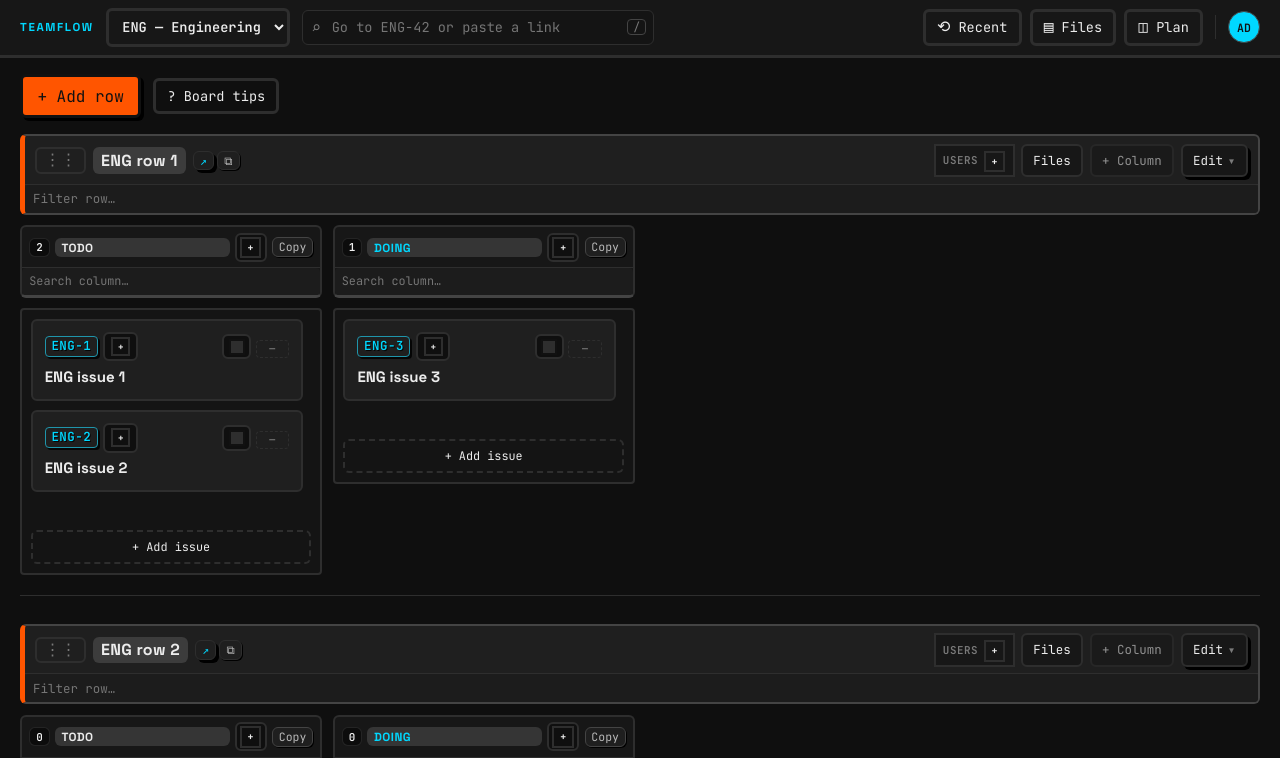
Scenario: board permissions › lets a viewer read but not drag, rename, delete, assign or bulk-edit
Expected: the button "ENG issue 1" is shown, [45,367,289,388]
Expected: the button "+ Add row" is disabled, [20,74,141,118]
Right-click the button "ENG row 2" at (140, 650), box [101,639,180,660]
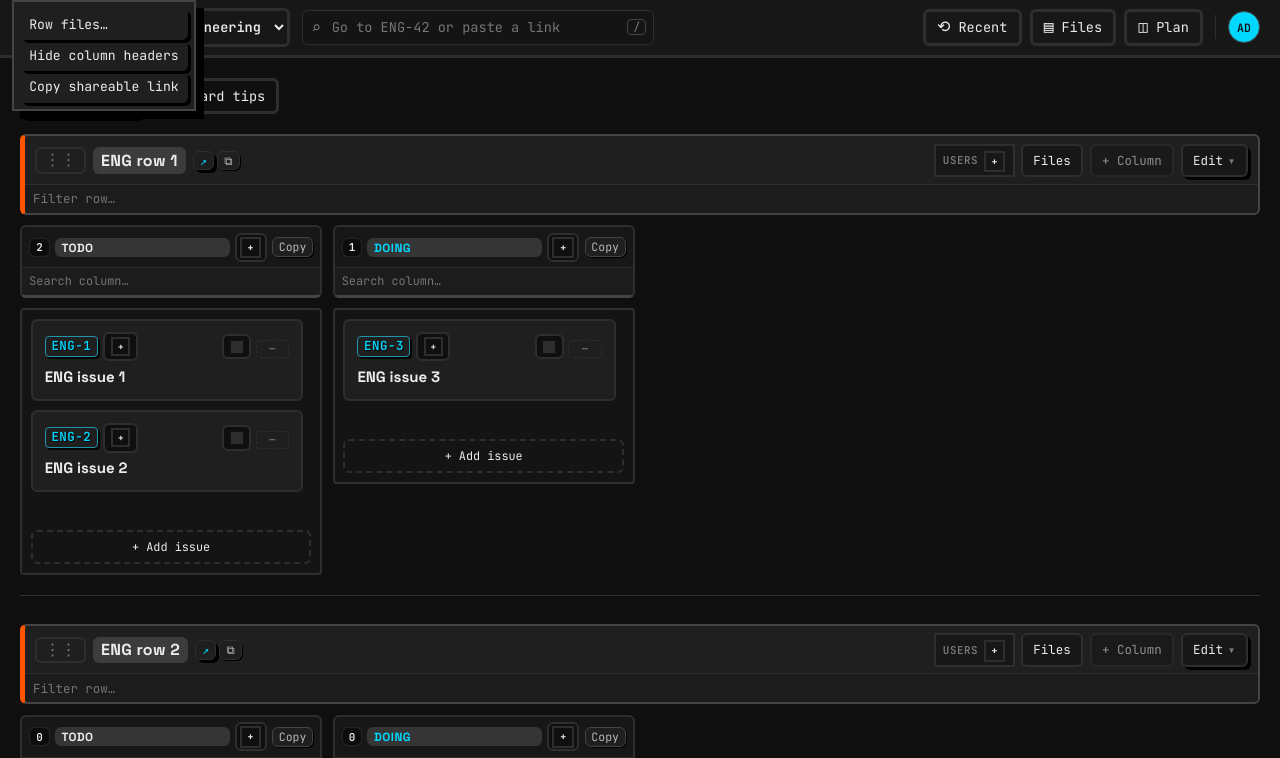
Expected: the menu item "Copy shareable link" is shown, [20,71,188,102]
Press Escape
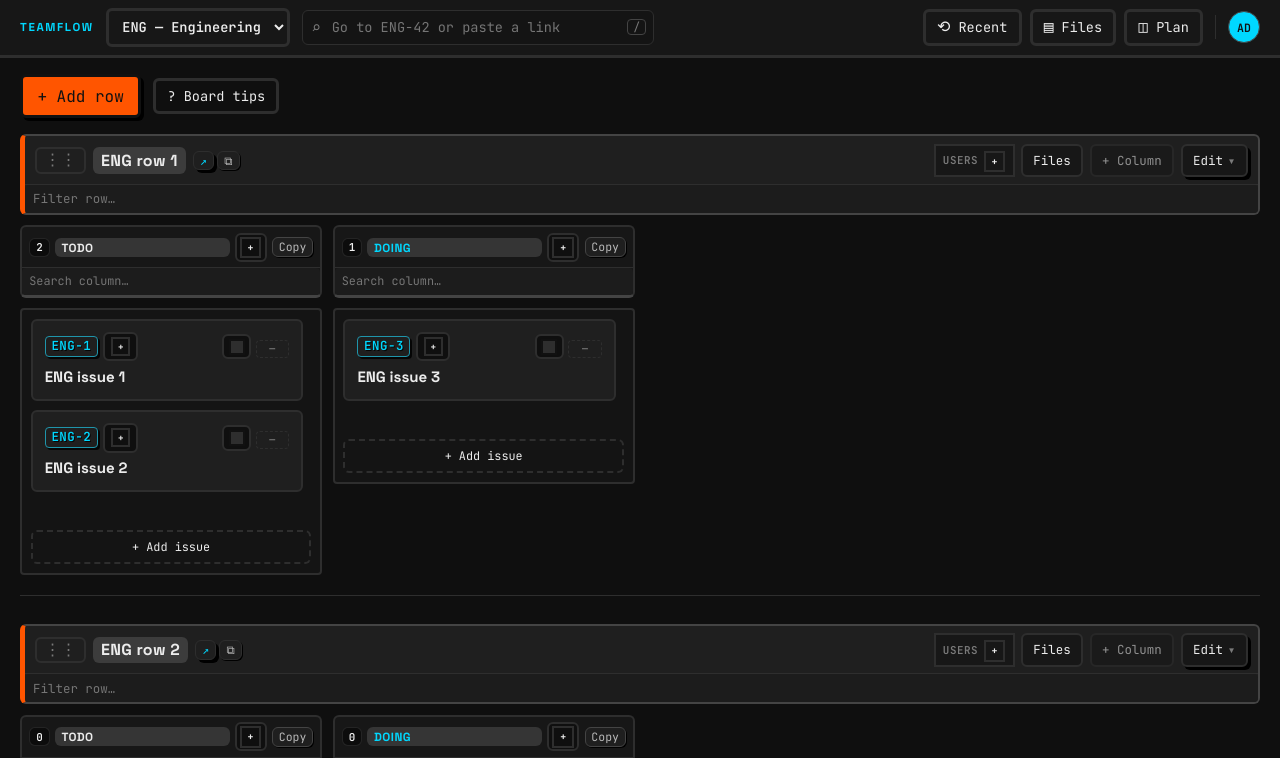
Type keys "{Control>}"
Click the button "ENG issue 1" at (167, 377), box [45,367,289,388]
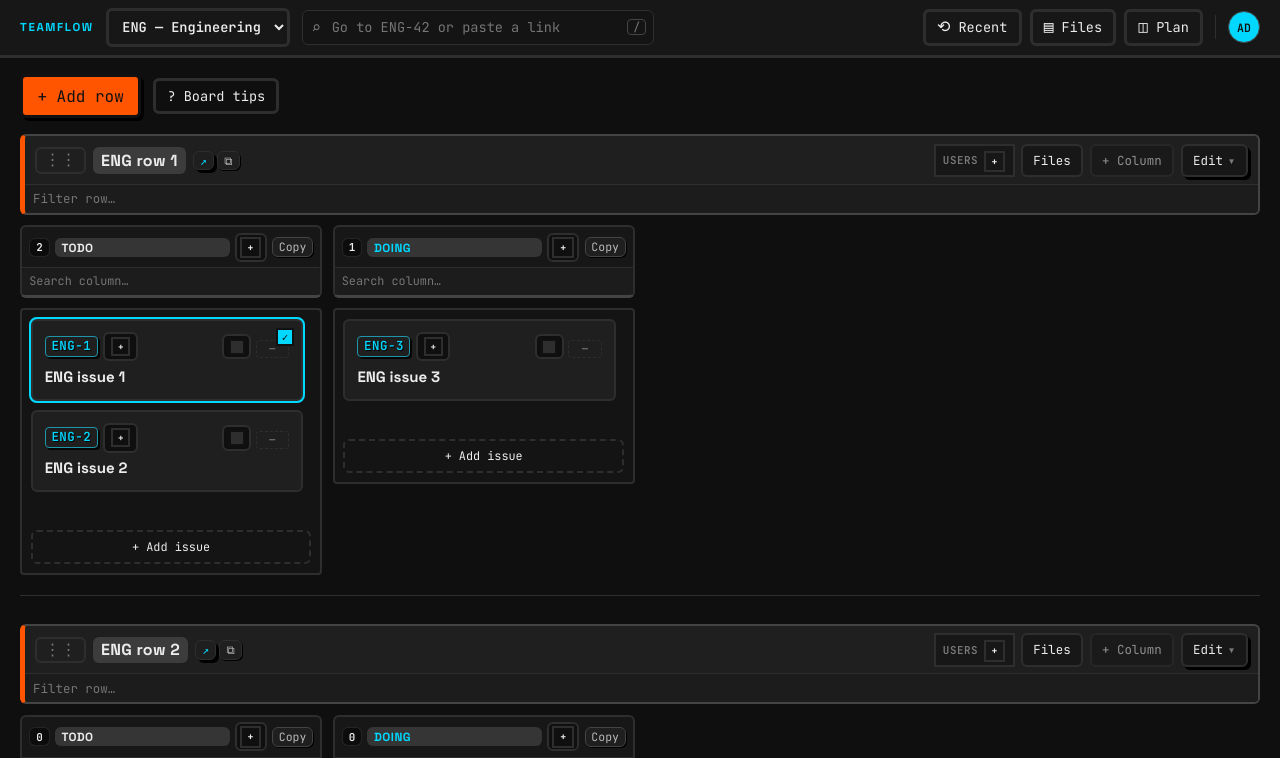
Click the button "ENG issue 2" at (167, 468), box [45,458,289,479]
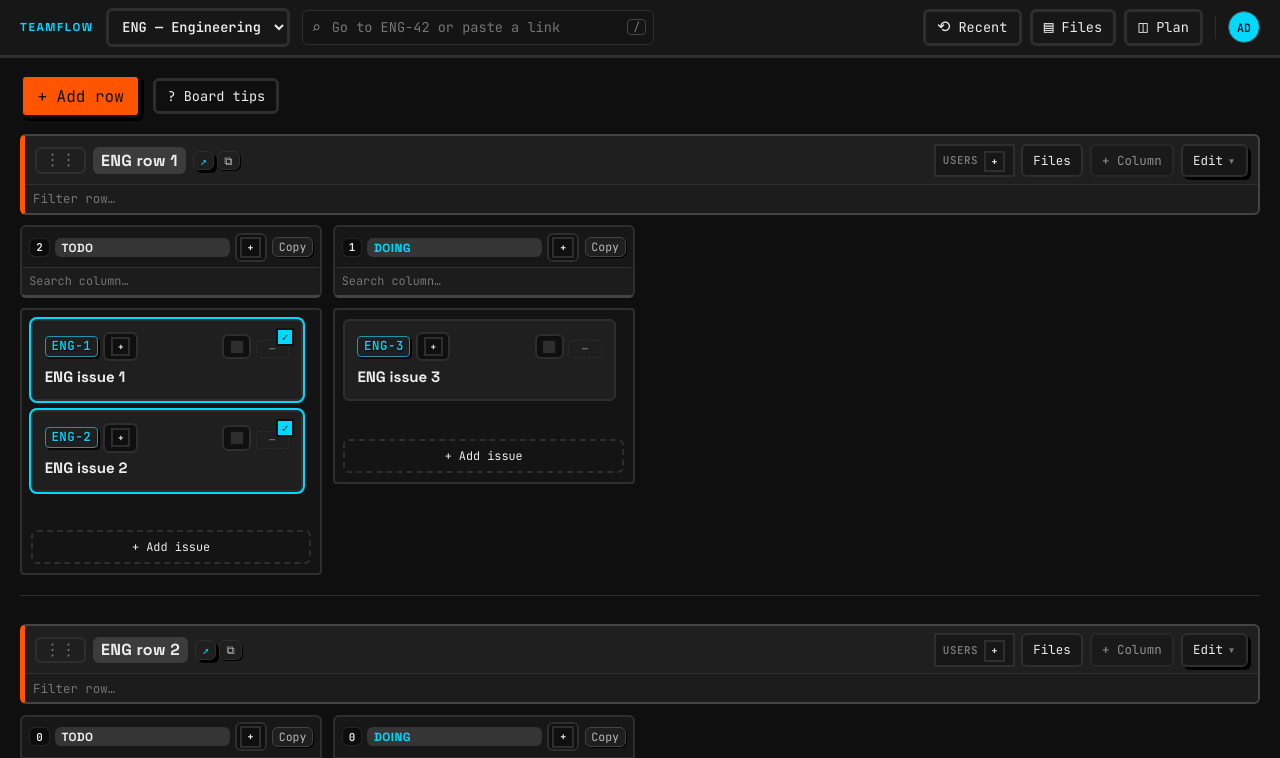
Type keys "{/Control}"
// Reading still works: a plain click opens the issue.
Click the button "ENG issue 3" at (480, 377), box [357,367,602,388]
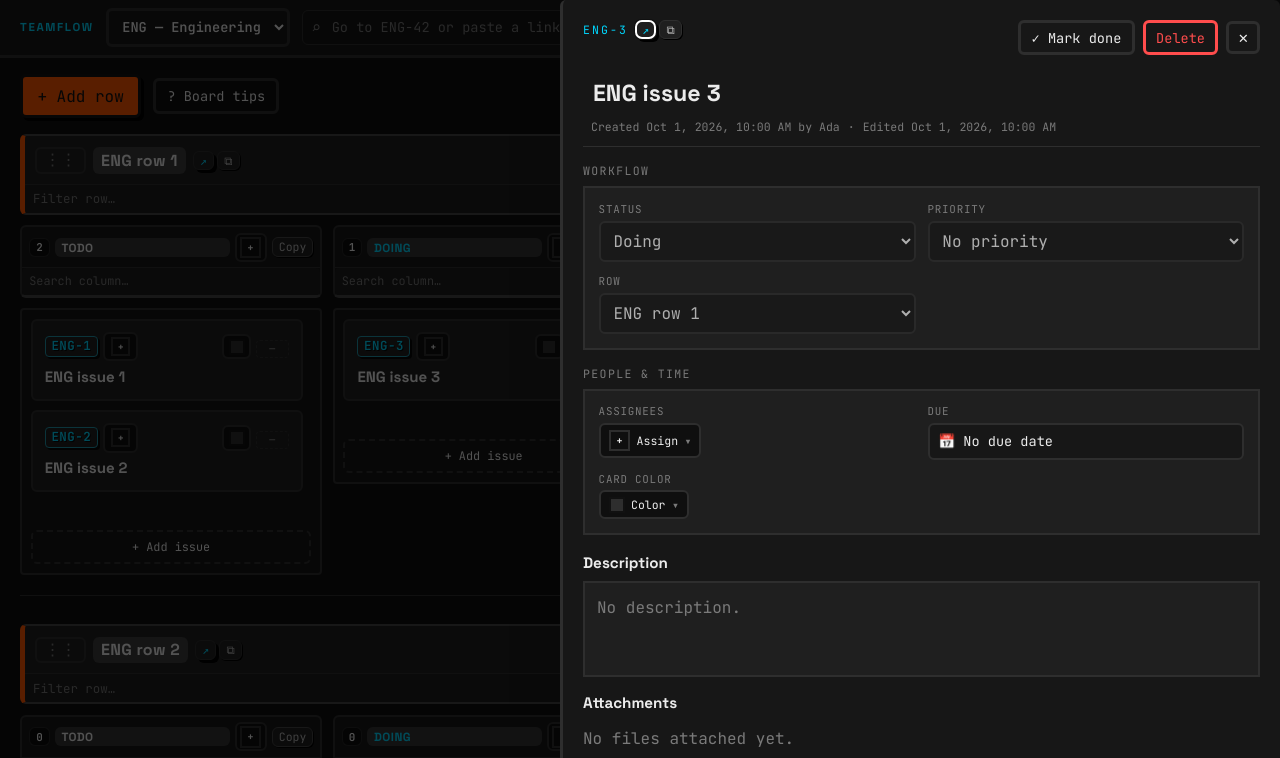
Expected: the field named "Issue title" holds "ENG issue 3", [583,71,1260,115]
